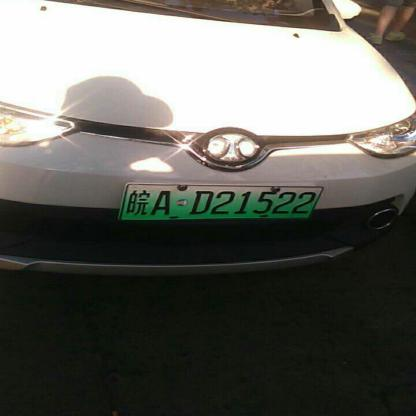lp: (121, 184, 322, 219)
